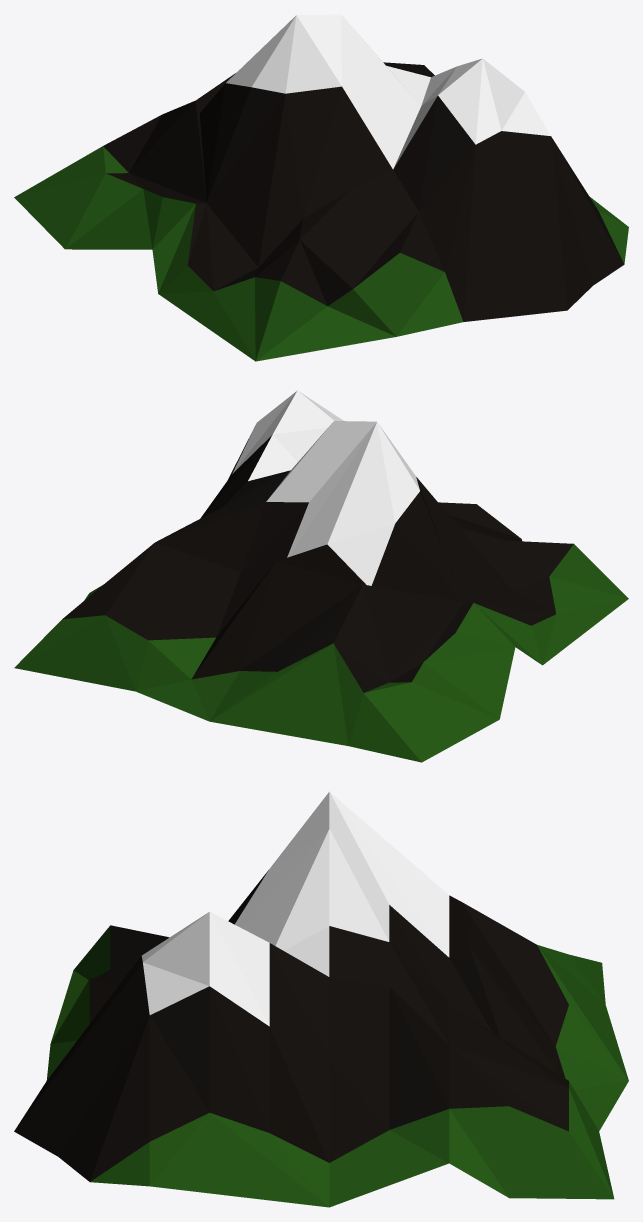
The model's file is Mountain_8.fbx.
3 views of the same model, one above another, from view 1: azimuth 30°, elevation 25°; view 2: azimuth 150°, elevation 25°; view 3: azimuth 270°, elevation 25° (orthographic). The views are drawn at different scales.
Visible parts, largest first — view 1: Mountain_8; view 2: Mountain_8; view 3: Mountain_8.
Boxes of the visible parts, box(x1,y1,x2,y2) form: Mountain_8: box(14, 14, 628, 361); Mountain_8: box(14, 390, 628, 762); Mountain_8: box(14, 791, 628, 1207).
Size of the model in its own units: 1389 by 676 by 1426.
